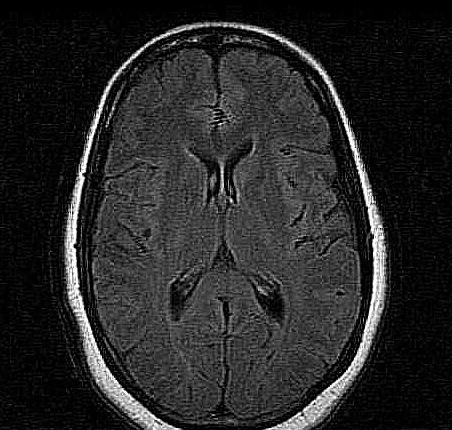Normal_Brain: (1, 1, 452, 430)
